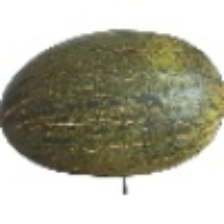honeydew: (63, 24, 203, 198)
